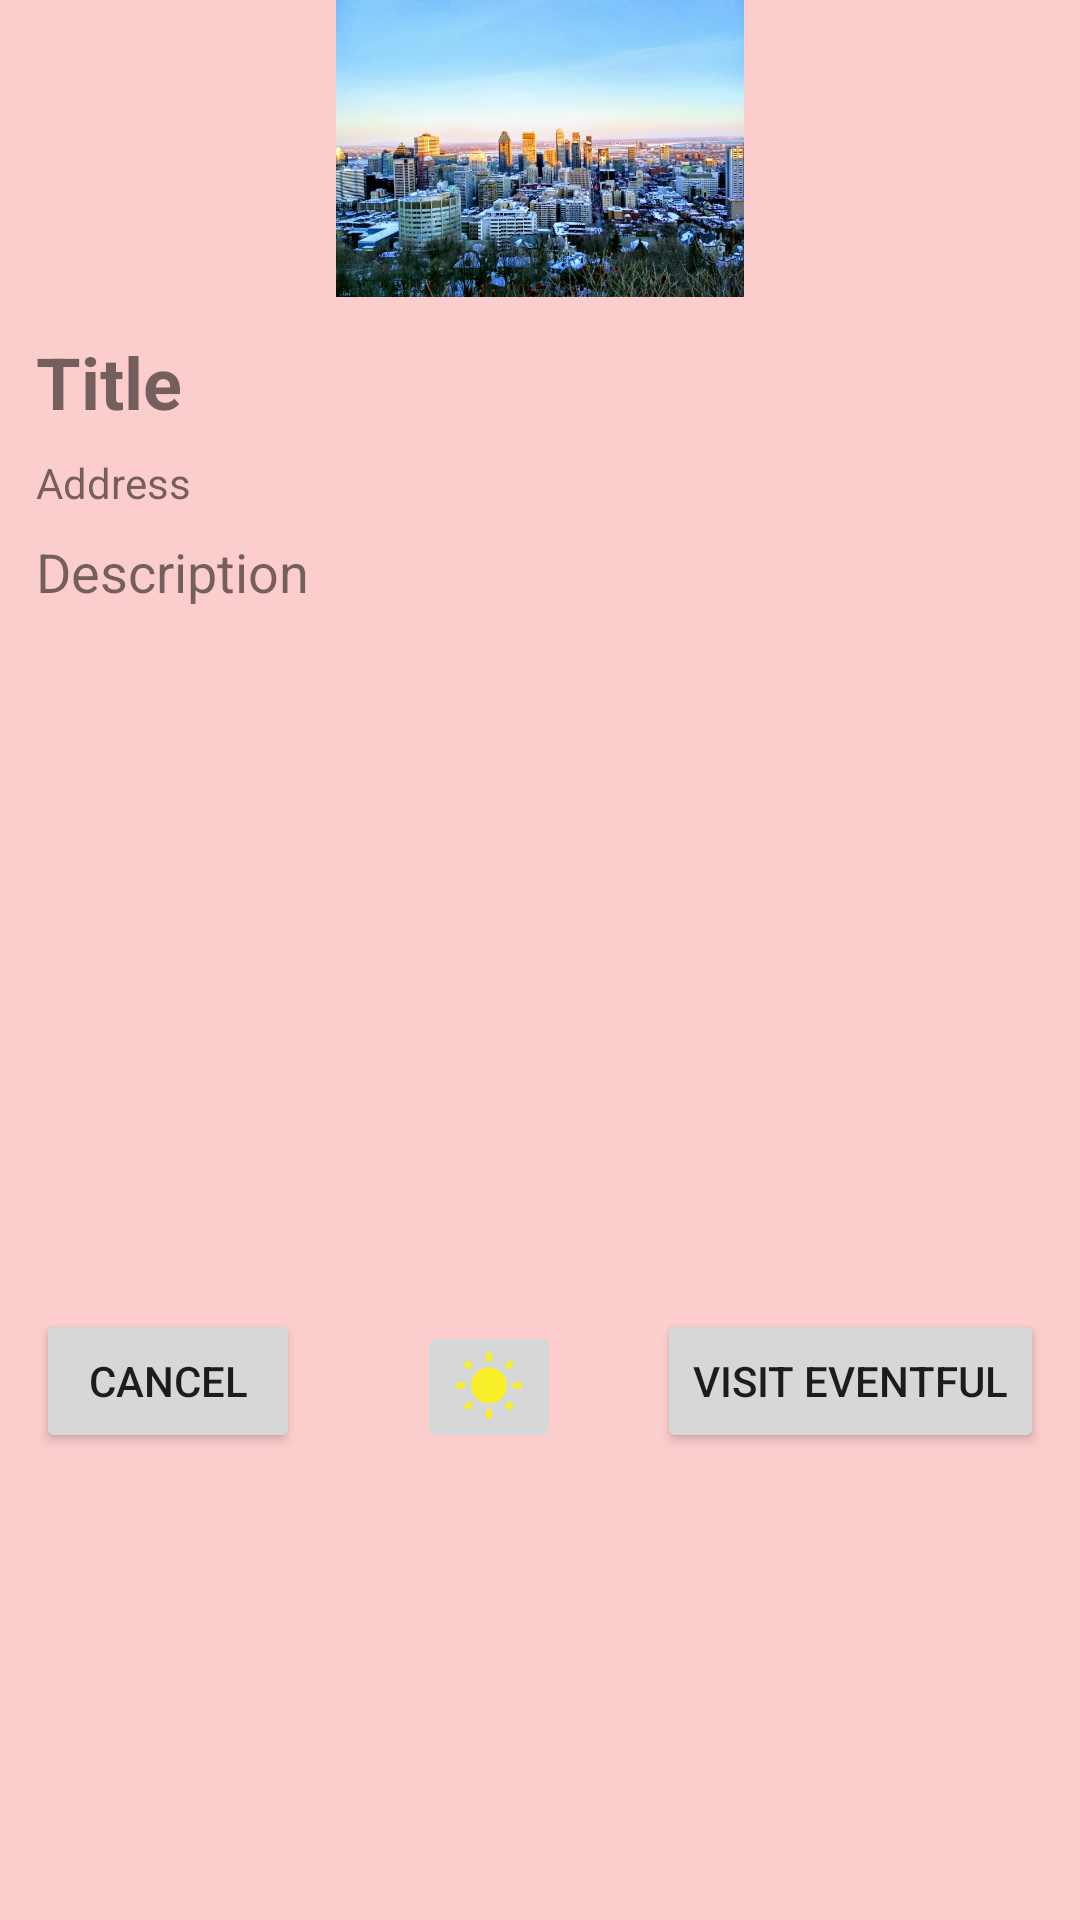

Named icons in this screenshot (1080px×1920px) and their bounding boxes, (x1, y1, x2, y2):
sunny: (429, 1339, 549, 1435)
